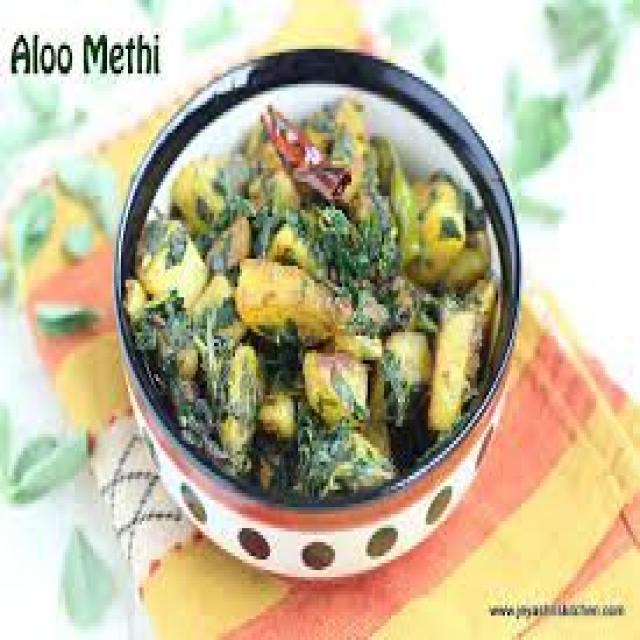Aloo Methi: (124, 100, 503, 500)
